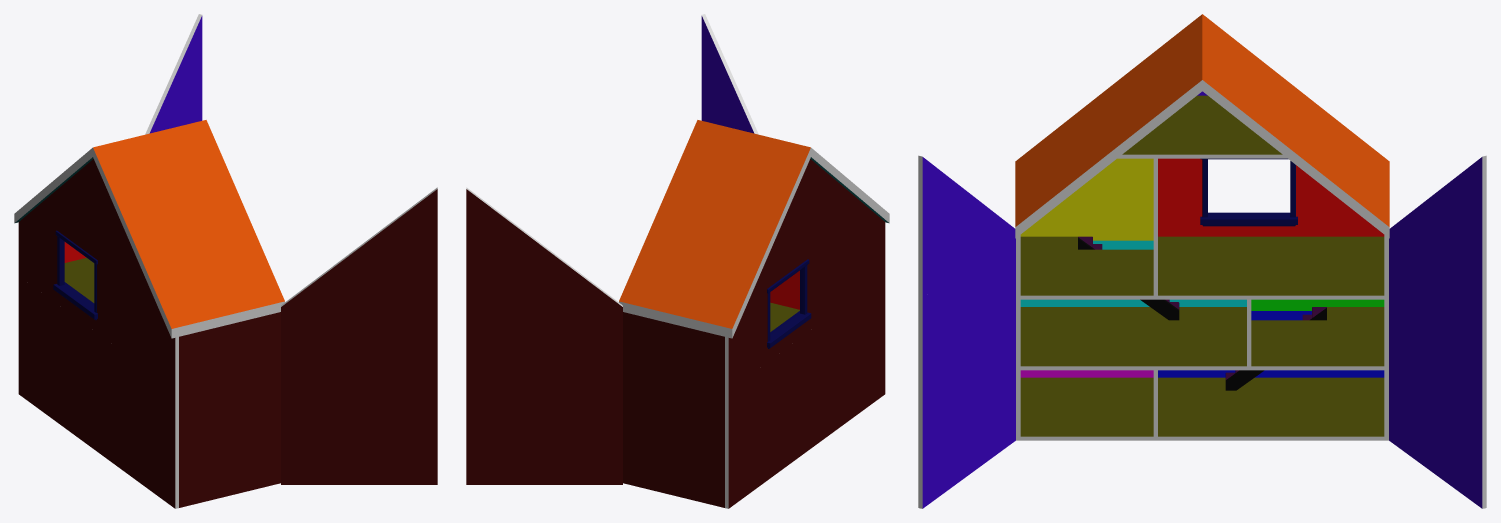
Rendered from prop_dollhouse.fbx.
3 renders of one model, left to right at view 1: azimuth 30°, elevation 25°; view 2: azimuth 150°, elevation 25°; view 3: azimuth 270°, elevation 25°, orthographic. The views are drawn at different scales.
Parts seen in each view (by area): view 1: prop_Dollhouse; view 2: prop_Dollhouse, Third_Floor_Wall; view 3: prop_Dollhouse, Third_Floor_Wall.
Part boxes in pixels (x1,y1,x2,y2): prop_Dollhouse: [14, 14, 437, 508]; prop_Dollhouse: [466, 14, 889, 508]; Third_Floor_Wall: [770, 270, 799, 309]; prop_Dollhouse: [918, 14, 1486, 508]; Third_Floor_Wall: [1153, 158, 1157, 295].
Size of the model in its own units: 2007 by 2576 by 3655.
